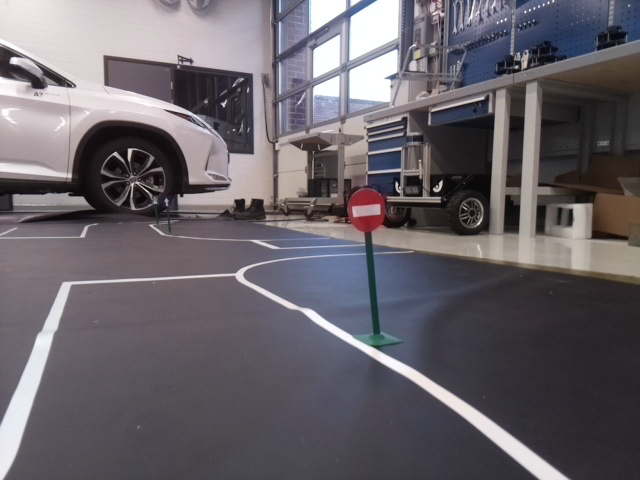NoEntry: (346, 187, 385, 230)
OneWay: (160, 196, 171, 207)
